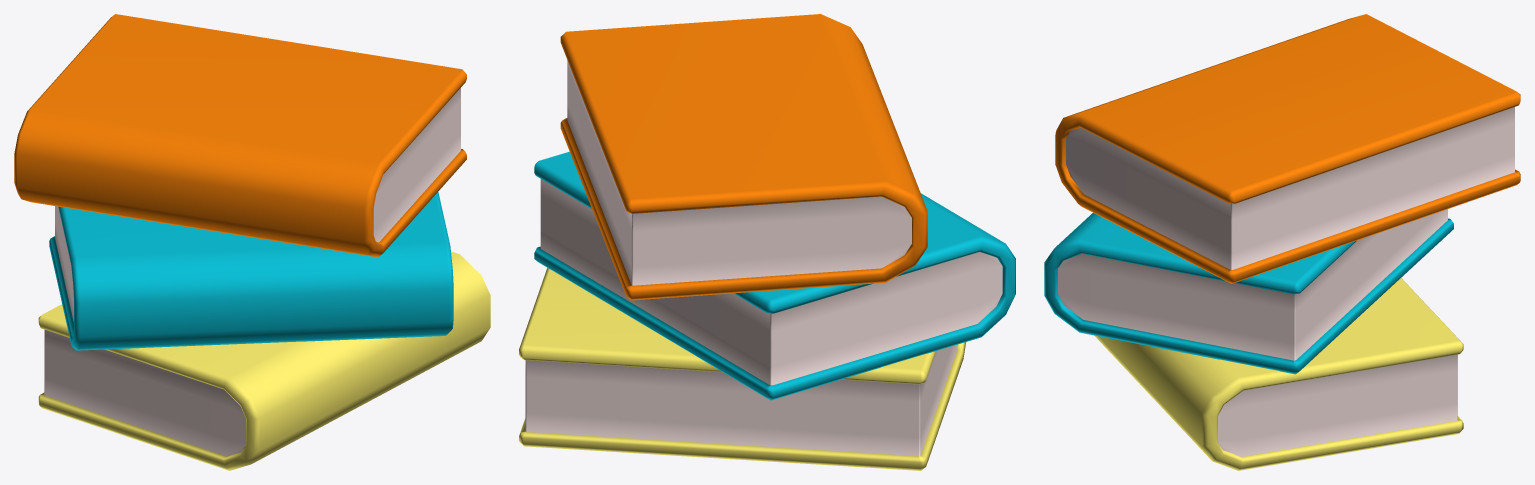
The model's file is Store_7_Books_1.glb.
The picture shows the model from 3 angles, left to right: view 1: azimuth 30°, elevation 25°; view 2: azimuth 150°, elevation 25°; view 3: azimuth 270°, elevation 25°; orthographic projection. The views are drawn at different scales.
Parts seen in each view (by area): view 1: Store_7_Books_1; view 2: Store_7_Books_1; view 3: Store_7_Books_1.
Part boxes in pixels (x1,y1,x2,y2): Store_7_Books_1: (14,14,490,470); Store_7_Books_1: (519,14,1015,470); Store_7_Books_1: (1044,14,1520,470).
Bounding box in the file's own units: 1.48 × 0.9518 × 1.47.
Materials: 1 (1 with a texture image).
